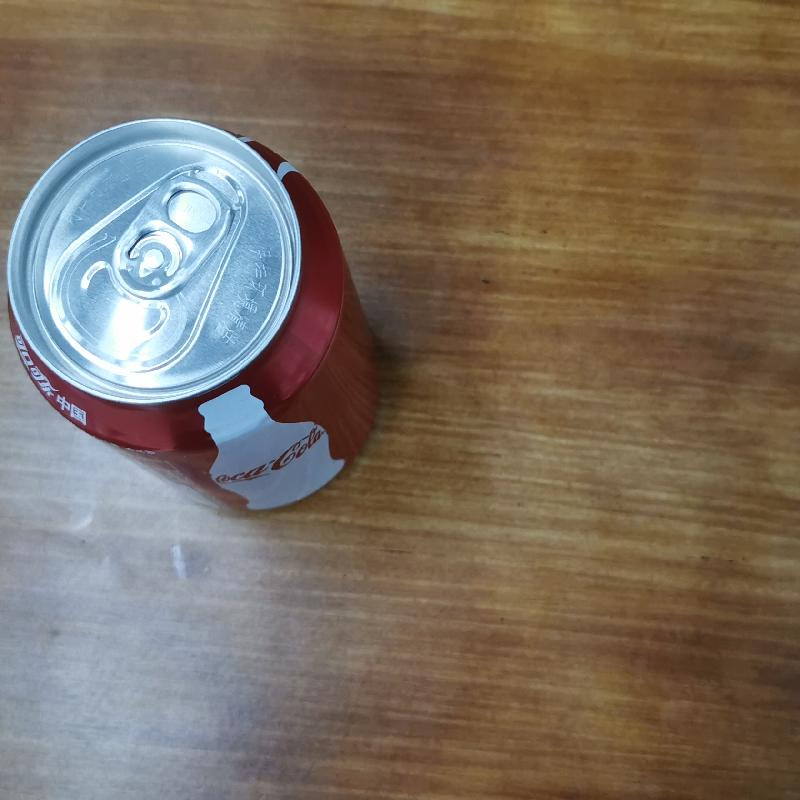cans: (8, 95, 390, 518)
